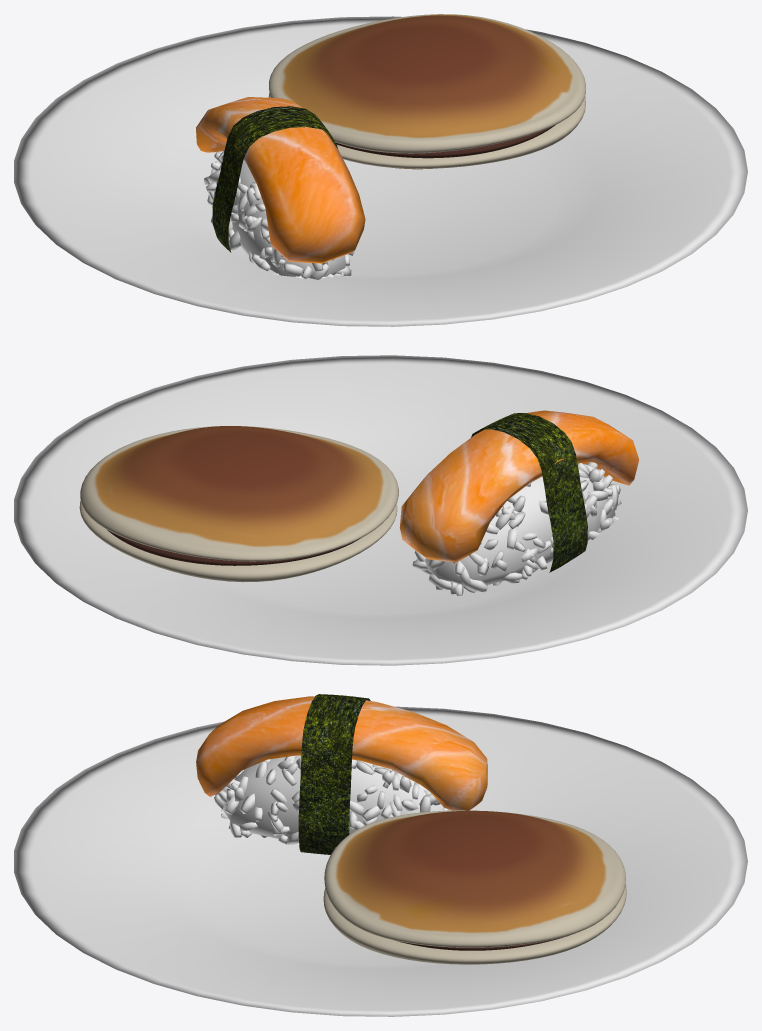
Rendered from dorayaki.gltf.
The picture shows the model from 3 angles, top to bottom: view 1: azimuth 30°, elevation 25°; view 2: azimuth 150°, elevation 25°; view 3: azimuth 270°, elevation 25°; orthographic projection.
Visible parts, largest first — view 1: piring, kue, Cube.001, Plane.001, kue.001, Cube, selai; view 2: piring, kue, Cube.001, Plane.001, kue.001, Cube, selai; view 3: piring, kue, Cube.001, Plane.001, Cube, kue.001.
Part boxes in pixels (box(x1,y1,x2,y2)): piring: box(14, 16, 747, 326); kue: box(269, 14, 585, 153); Cube.001: box(196, 97, 365, 263); Plane.001: box(212, 106, 337, 252); kue.001: box(268, 92, 585, 169); Cube: box(213, 160, 345, 277); selai: box(336, 125, 555, 158); piring: box(14, 355, 747, 665); kue: box(80, 426, 398, 561); Cube.001: box(399, 410, 638, 562); Plane.001: box(471, 413, 587, 572); kue.001: box(79, 500, 397, 582); Cube: box(425, 476, 615, 586); selai: box(107, 530, 360, 565); piring: box(14, 706, 747, 1016); kue: box(324, 810, 625, 947); Cube.001: box(196, 696, 487, 810); Plane.001: box(298, 694, 370, 854); Cube: box(223, 755, 451, 838); kue.001: box(323, 884, 626, 964).
Bounding box in the file's own units: 5.78 × 1.21 × 5.77.
6 materials, 3 textured.
